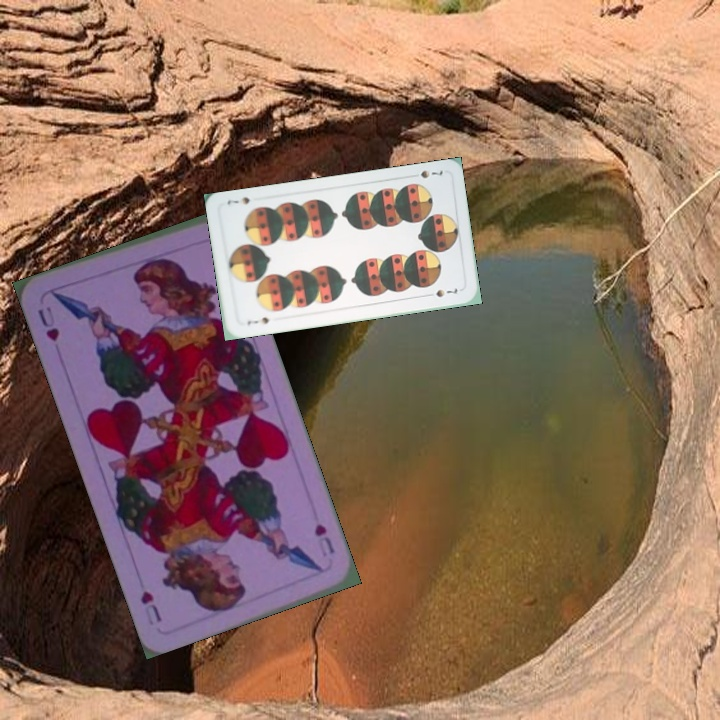HU: (33, 302, 62, 344), (310, 519, 338, 559)
S7: (416, 166, 445, 181), (243, 313, 271, 327)
